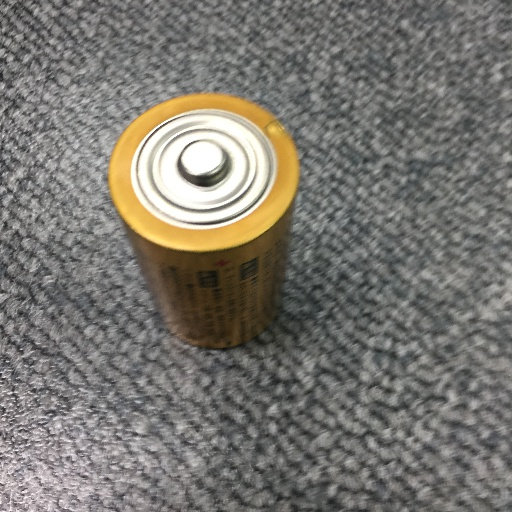Battery_0: (101, 83, 305, 356)
